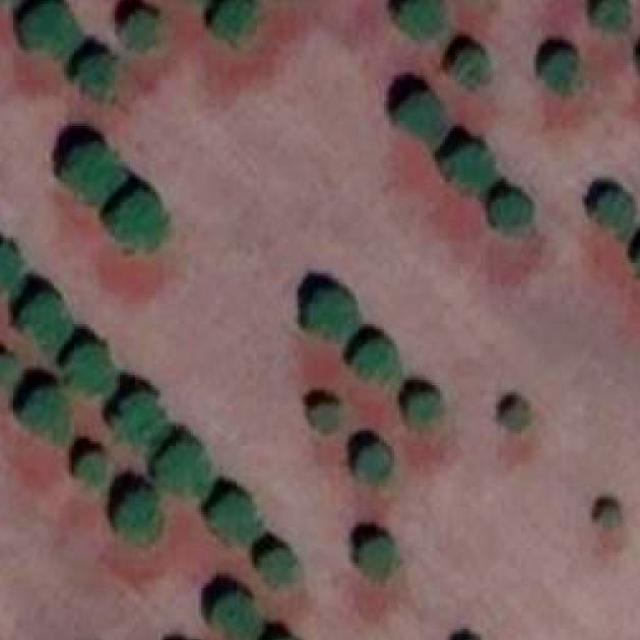Tree: (64, 146, 125, 205), (23, 2, 82, 58), (394, 94, 453, 150), (120, 390, 169, 456), (156, 444, 212, 500), (112, 192, 168, 246), (21, 294, 72, 352), (23, 388, 67, 452), (64, 344, 115, 398), (307, 290, 358, 340), (445, 143, 496, 192), (213, 493, 262, 542), (214, 593, 260, 640), (595, 189, 636, 238), (118, 492, 158, 542), (399, 0, 448, 40), (79, 51, 115, 100), (353, 344, 402, 380), (213, 0, 254, 42), (542, 53, 580, 98), (493, 192, 531, 231), (359, 537, 392, 581), (453, 50, 489, 88), (125, 11, 158, 50), (260, 548, 296, 583), (592, 0, 628, 35), (357, 443, 390, 481), (407, 393, 441, 429), (77, 451, 108, 485), (0, 247, 21, 291), (311, 405, 336, 431), (592, 507, 621, 527), (506, 405, 526, 431), (0, 355, 15, 385)
